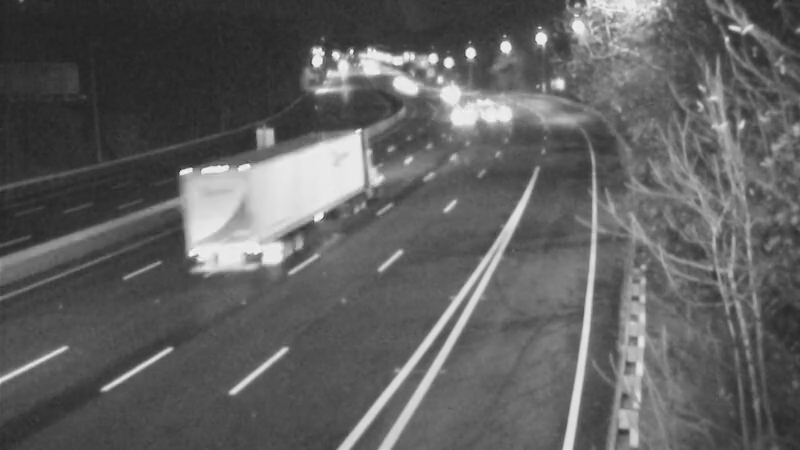vehicle: (231, 156, 311, 236), (367, 59, 417, 109), (384, 65, 434, 115), (420, 70, 470, 120), (455, 81, 505, 131), (468, 90, 518, 140), (439, 87, 489, 137)
